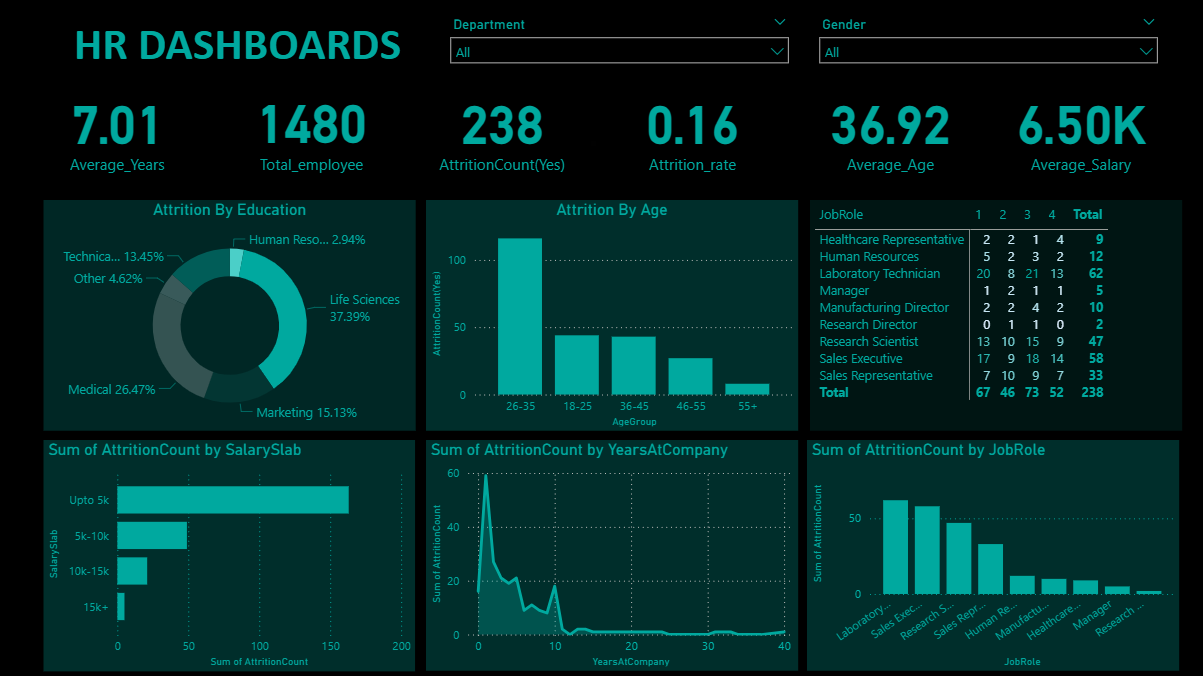

Layout of this report page (visuals, bound fields, positions):
{"tool":"powerbi","page":{"name":"Page 1","canvas":[1280,720],"ordinal":0},"visuals":[{"type":"card","fields":{"Values":["Measures (2).Total_employee"]},"box":[251.3,79.5,163.8,114.5],"z":0},{"type":"card","fields":{"Values":["Measures (2).attritionCount"]},"box":[443.8,79.5,182.9,114.5],"z":1000},{"type":"card","fields":{"Values":["Measures (2).attrition_rate"]},"box":[639.4,79.5,195.6,114.5],"z":2000},{"type":"card","fields":{"Values":["Measures (2).Avg_Salary"]},"box":[862.1,79.5,170.2,114.5],"z":3000},{"type":"card","fields":{"Values":["Measures (2).Average_Salary"]},"box":[1059.3,79.5,179.7,114.5],"z":4000},{"type":"card","fields":{"Values":["Measures (2).Average_Years"]},"box":[49.3,79.5,155.9,114.5],"z":5000},{"type":"slicer","fields":{"Values":["HR_Analytics.Gender"]},"box":[862.1,12.7,378.6,66.8],"z":6000},{"type":"donutChart","title":"Attrition By Education","fields":{"Y":["Measures (2).AttritionCount(Yes)"],"Series":["HR_Analytics.EducationField"]},"box":[49.3,213.1,394.5,245],"z":7000},{"type":"clusteredColumnChart","title":"Attrition By Age","fields":{"Y":["Measures (2).AttritionCount(Yes)"],"Category":["HR_Analytics.AgeGroup"]},"box":[454.9,213.1,394.5,245],"z":8000},{"type":"pivotTable","fields":{"Rows":["HR_Analytics.JobRole"],"Columns":["HR_Analytics.JobSatisfaction"],"Values":["Sum(HR_Analytics.AttritionCount)"]},"box":[862.1,213.1,394.5,245],"z":9000},{"type":"barChart","fields":{"Category":["HR_Analytics.SalarySlab"],"Y":["Sum(HR_Analytics.AttritionCount)"]},"box":[49,468,394,245],"z":10000},{"type":"slicer","fields":{"Values":["HR_Analytics.Department"]},"box":[470.8,12.7,378.6,66.8],"z":11000},{"type":"clusteredColumnChart","fields":{"Category":["HR_Analytics.JobRole"],"Y":["Sum(HR_Analytics.AttritionCount)"]},"box":[858.9,467.6,394.5,245],"z":12000},{"type":"areaChart","fields":{"Category":["HR_Analytics.YearsAtCompany"],"Y":["Sum(HR_Analytics.AttritionCount)"]},"box":[454.9,467.6,394.5,245],"z":13000},{"type":"textbox","box":[76.3,12.7,378.6,79.5],"z":14000}]}

Visuals, with their boxes in screenshot pixels (x1, y1, x2, y2), scaled from the page's 1280x720 canvas onto the 1203x676 screenshot:
card - Measures (2).Total_employee: select_region(236, 75, 390, 182)
card - Measures (2).attritionCount: select_region(417, 75, 589, 182)
card - Measures (2).attrition_rate: select_region(601, 75, 785, 182)
card - Measures (2).Avg_Salary: select_region(810, 75, 970, 182)
card - Measures (2).Average_Salary: select_region(996, 75, 1164, 182)
card - Measures (2).Average_Years: select_region(46, 75, 193, 182)
slicer - HR_Analytics.Gender: select_region(810, 12, 1166, 75)
"Attrition By Education" donutChart: select_region(46, 200, 417, 430)
"Attrition By Age" clusteredColumnChart: select_region(428, 200, 798, 430)
pivotTable - HR_Analytics.JobRole x HR_Analytics.JobSatisfaction: select_region(810, 200, 1181, 430)
barChart - HR_Analytics.SalarySlab x Sum(HR_Analytics.AttritionCount): select_region(46, 439, 416, 669)
slicer - HR_Analytics.Department: select_region(442, 12, 798, 75)
clusteredColumnChart - HR_Analytics.JobRole x Sum(HR_Analytics.AttritionCount): select_region(807, 439, 1178, 669)
areaChart - HR_Analytics.YearsAtCompany x Sum(HR_Analytics.AttritionCount): select_region(428, 439, 798, 669)
textbox: select_region(72, 12, 428, 87)
